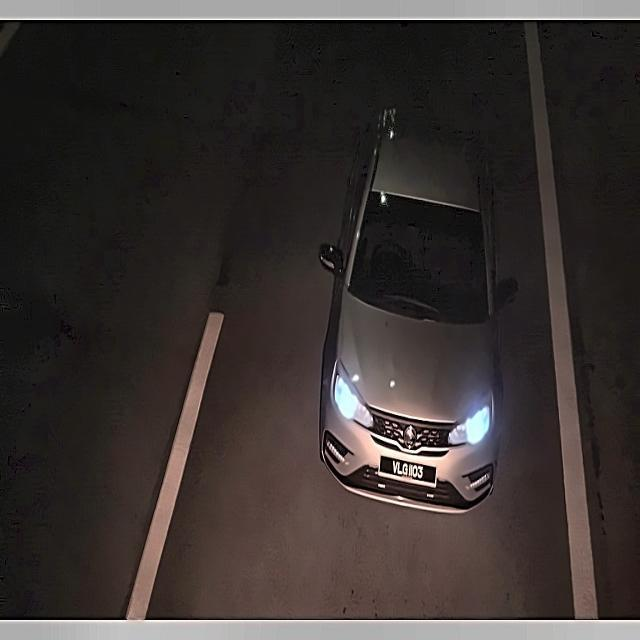car: (378, 453, 434, 492)
